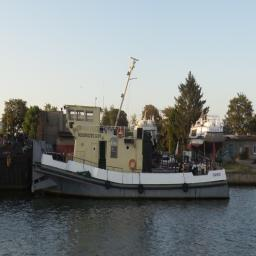tugboat: (31, 101, 232, 212)
